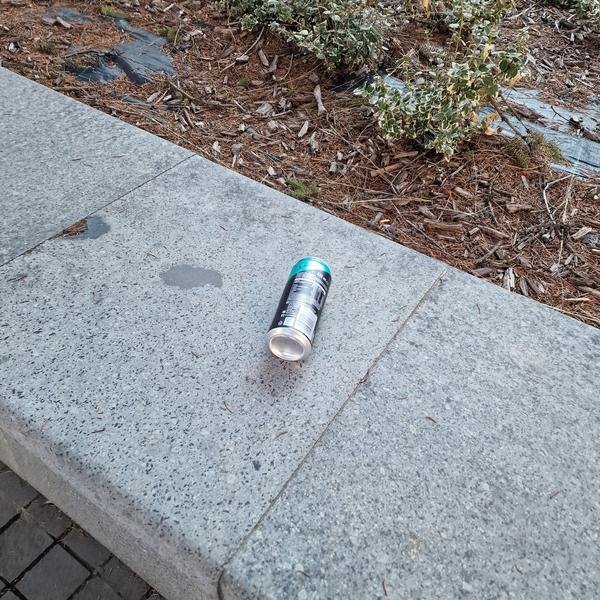can: (262, 249, 334, 369)
